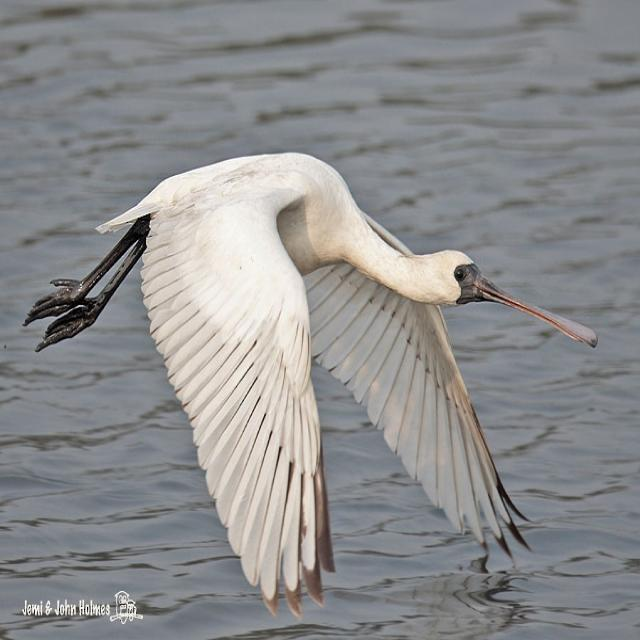Black-faced spoonbill: (25, 154, 596, 615)
